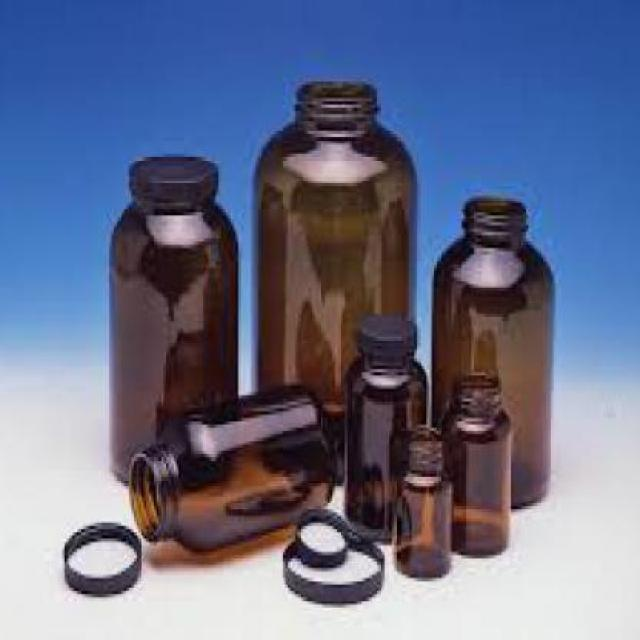GLASS: (258, 75, 422, 487), (434, 192, 558, 512), (115, 196, 238, 487), (131, 382, 340, 552), (348, 352, 429, 538), (444, 372, 516, 558), (399, 424, 455, 574)
PLASTIC: (285, 536, 387, 601), (67, 520, 144, 591), (134, 147, 220, 205), (360, 310, 418, 368), (298, 506, 350, 565)
